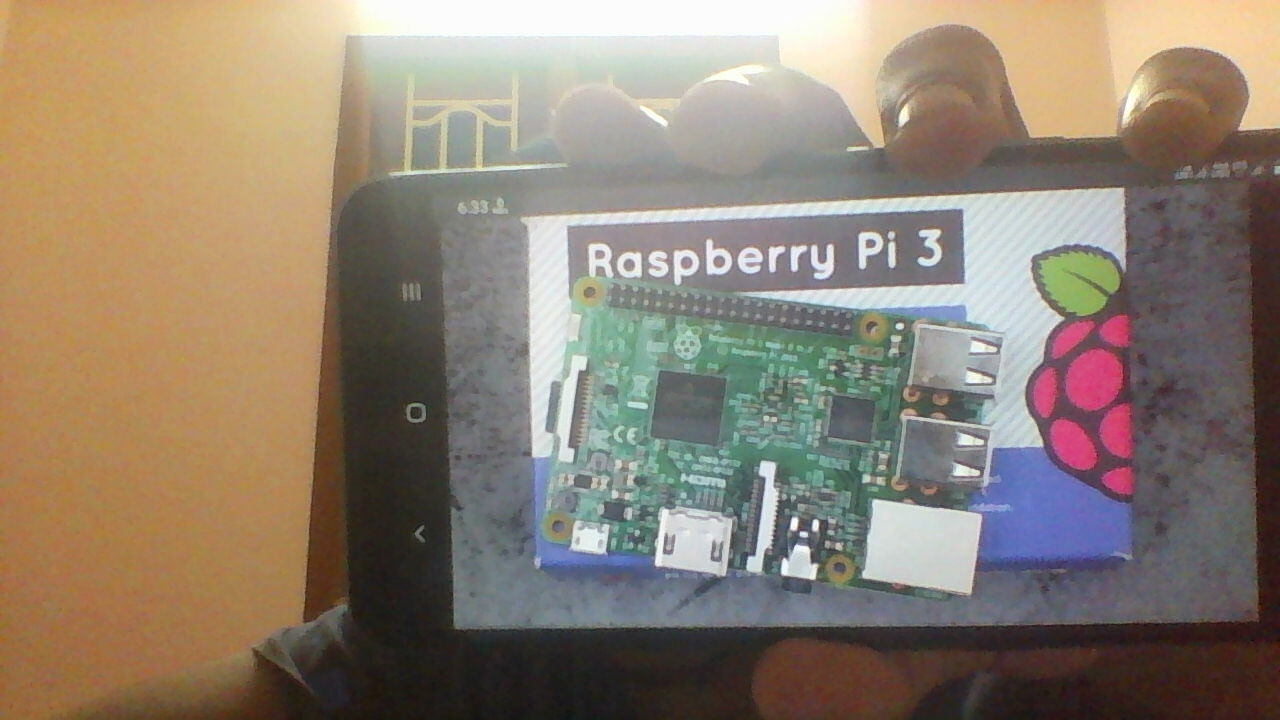aud: (779, 498, 828, 605)
eth: (861, 499, 984, 608)
usb: (904, 315, 1006, 399), (893, 413, 996, 491)
